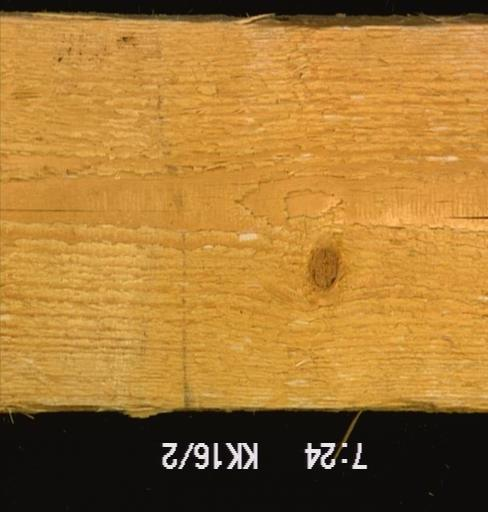sound_knot: (305, 243, 342, 292)
split: (430, 211, 486, 231)
wave: (234, 12, 479, 37)
